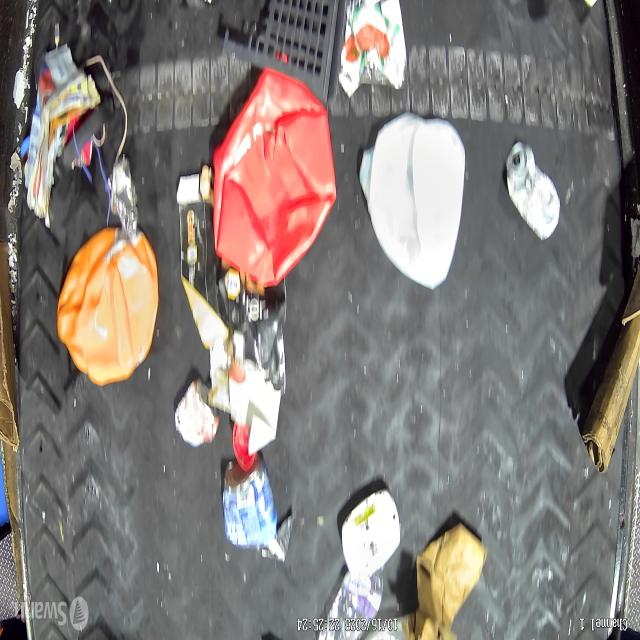can: (503, 138, 560, 243), (221, 454, 277, 549), (174, 376, 218, 448)
milk_jug: (359, 110, 465, 290)
non_white_jug: (212, 67, 337, 288), (57, 226, 159, 388)
plastic_bottle: (320, 565, 384, 640)
